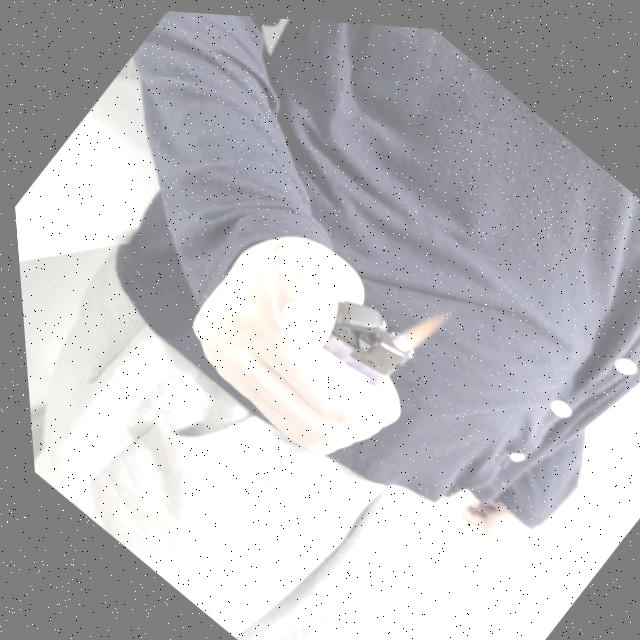Fire: (381, 285, 451, 361)
